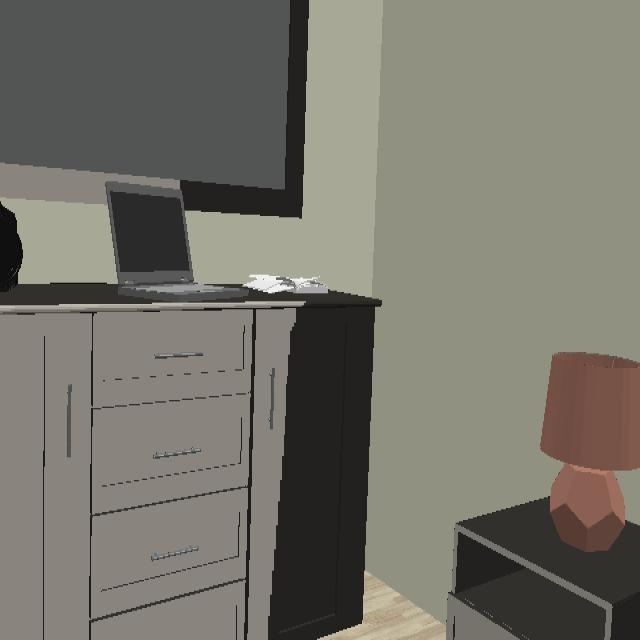book: (244, 275, 328, 293)
cabinet: (0, 283, 378, 638)
lamp: (540, 352, 640, 552)
laptop: (106, 184, 244, 300)
nighttable: (446, 497, 640, 638)
